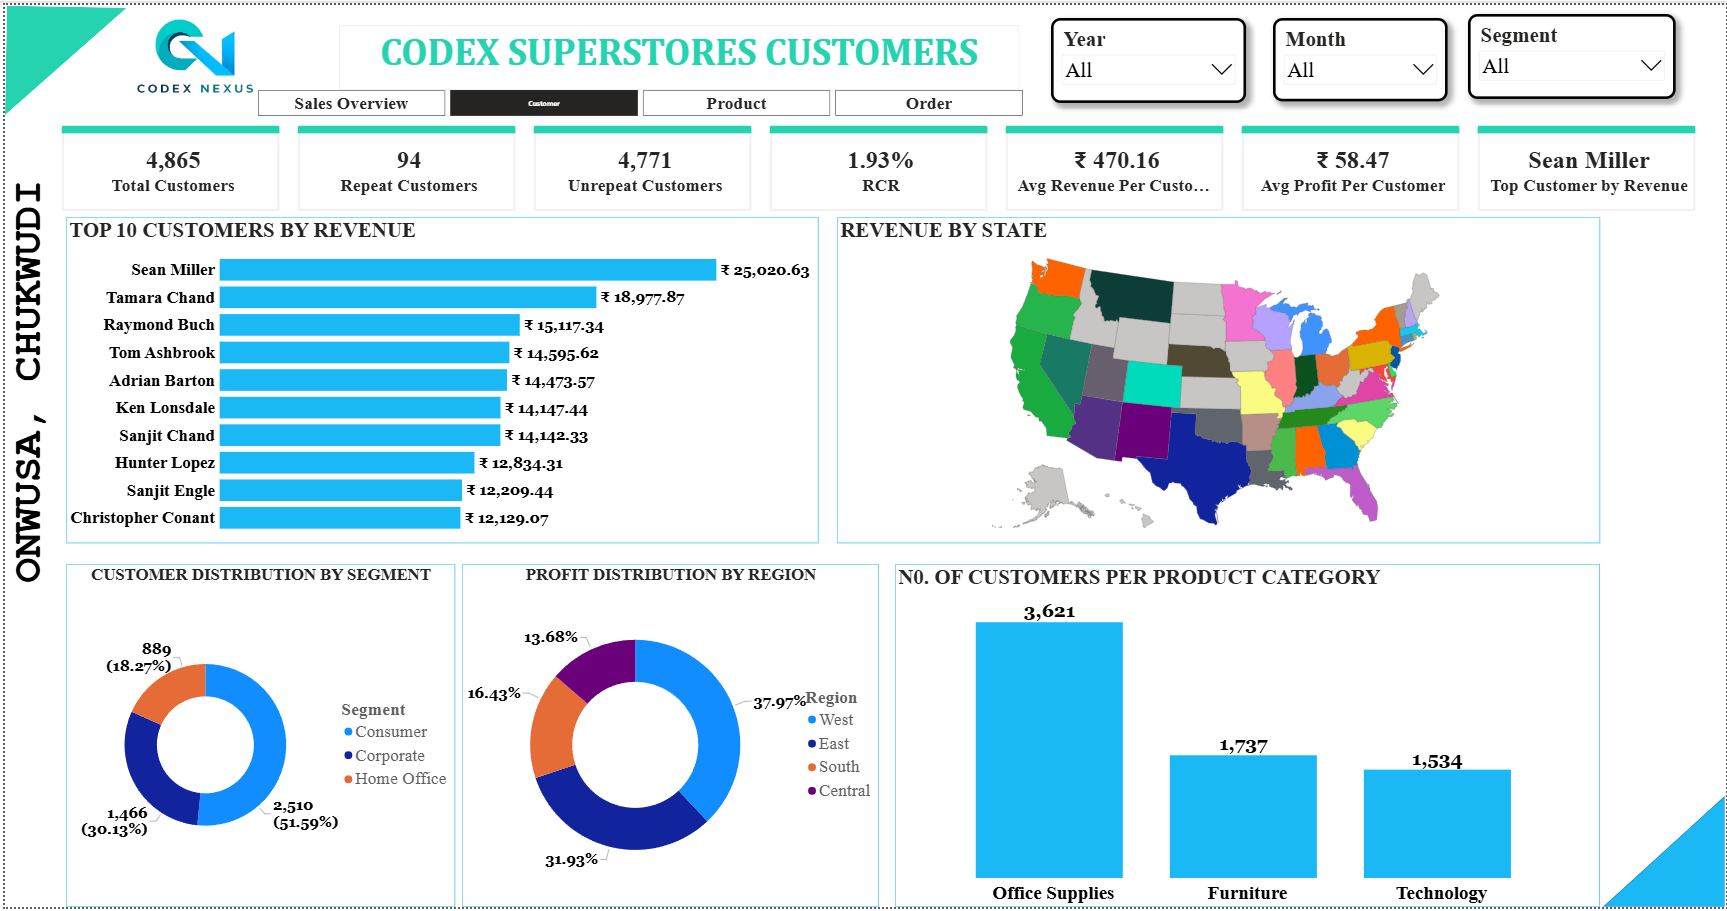

Layout of this report page (visuals, bound fields, positions):
{"tool":"powerbi","page":{"name":"Customer","canvas":[3280,1720],"ordinal":1},"visuals":[{"type":"shape","box":[0,0,232.2,211.3],"z":0},{"type":"shape","box":[3047.8,1509,232.2,211.3],"z":1000},{"type":"shape","box":[0,199.4,87.2,1034.3],"z":2000},{"type":"image","box":[232.2,0,250,199.4],"z":3000},{"type":"cardVisual","fields":{"Data":["My Measure.Total Customers","My Measure.Repeat Customers","My Measure.Unrepeat Customers","My Measure.CRR","My Measure.Avg Revenue Per Customer","My Measure.Avg Profit Per Customer","My Measure.Top Customer by Revenue"]},"box":[87.1,210.3,3159.9,204.2],"z":4000},{"type":"clusteredBarChart","title":"TOP 10 CUSTOMERS BY REVENUE","fields":{"Category":["dimCustomer.Customer Name"],"Y":["My Measure.Total Revenue"]},"box":[116.1,404.8,1434.6,622.1],"z":5000},{"type":"donutChart","title":"CUSTOMER DISTRIBUTION BY SEGMENT","fields":{"Category":["dimCustomer.Segment"],"Y":["My Measure.Total Customers"]},"box":[116.4,1066.3,741.5,653.7],"z":6000},{"type":"slicer","fields":{"Values":["Date Table.Year"]},"box":[1994.4,24,372.5,162.2],"z":7000},{"type":"slicer","fields":{"Values":["dimCustomer.Segment"]},"box":[2790.4,18,396.5,162.2],"z":8000},{"type":"shapeMap","title":"REVENUE BY STATE","fields":{"Value":["My Measure.Total Revenue"],"Category":["dimCustomer.State"],"Series":["dimCustomer.City"]},"box":[1586.4,404.8,1455.5,622.1],"z":9000},{"type":"clusteredColumnChart","title":"N0. OF CUSTOMERS PER PRODUCT CATEGORY","fields":{"Category":["dimProduct.Category"],"Y":["My Measure.Total Customers"]},"box":[1697.5,1066.3,1344.1,653.7],"z":10000},{"type":"slicer","fields":{"Values":["Date Table.Short Month"]},"box":[2417.9,24,333.4,159.2],"z":11000},{"type":"pageNavigator","box":[482.4,162.1,1458.8,49.6],"z":12000},{"type":"textbox","box":[636.1,37.2,1297.1,124.1],"z":13000},{"type":"donutChart","title":"PROFIT DISTRIBUTION BY REGION","fields":{"Category":["dimCustomer.Region"],"Y":["My Measure.Total Profit"]},"box":[872.3,1066.3,794.6,653.7],"z":14000}]}

Visuals, with their boxes in screenshot pixels (x1, y1, x2, y2), scaled from the page's 3280x1720 canvas onto the 1727x911 screenshot:
shape: [0,0,122,112]
shape: [1605,799,1726,910]
shape: [0,106,46,653]
image: [122,0,254,106]
cardVisual - My Measure.Total Customers x My Measure.Repeat Customers: [46,111,1710,220]
"TOP 10 CUSTOMERS BY REVENUE" clusteredBarChart: [61,214,816,544]
"CUSTOMER DISTRIBUTION BY SEGMENT" donutChart: [61,565,452,910]
slicer - Date Table.Year: [1050,13,1246,99]
slicer - dimCustomer.Segment: [1469,10,1678,95]
"REVENUE BY STATE" shapeMap: [835,214,1602,544]
"N0. OF CUSTOMERS PER PRODUCT CATEGORY" clusteredColumnChart: [894,565,1601,910]
slicer - Date Table.Short Month: [1273,13,1449,97]
pageNavigator: [254,86,1022,112]
textbox: [335,20,1018,85]
"PROFIT DISTRIBUTION BY REGION" donutChart: [459,565,878,910]
